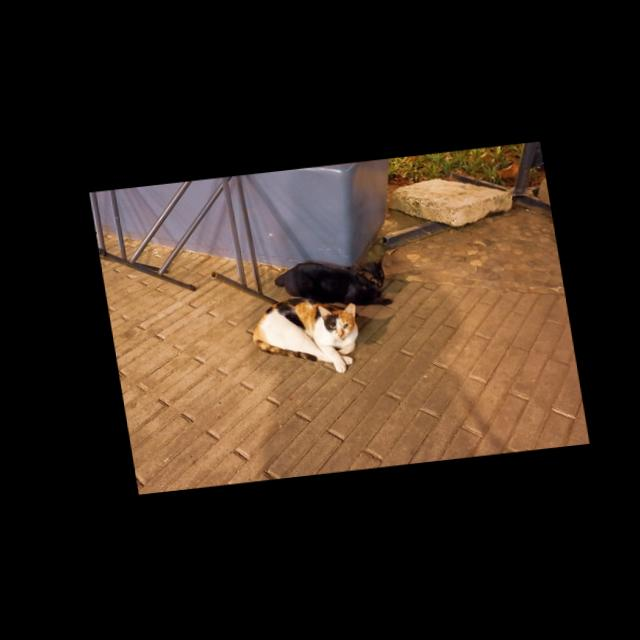animals: (243, 293, 360, 381), (268, 252, 390, 317)
